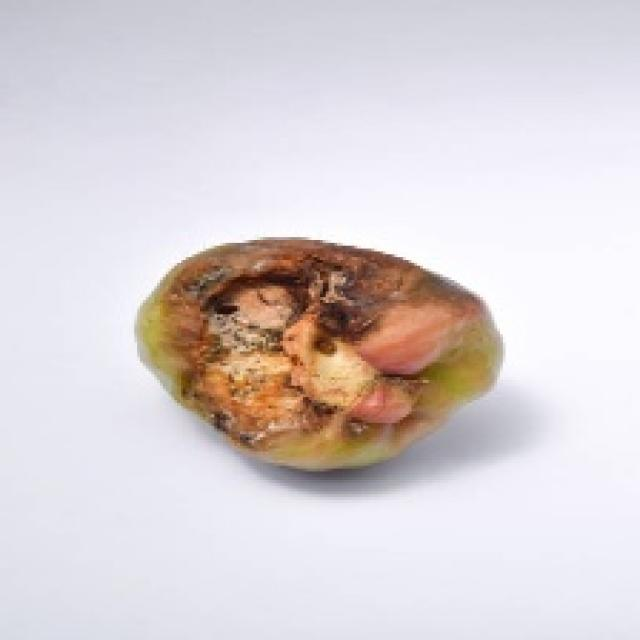rotten_apple: (143, 242, 504, 452)
